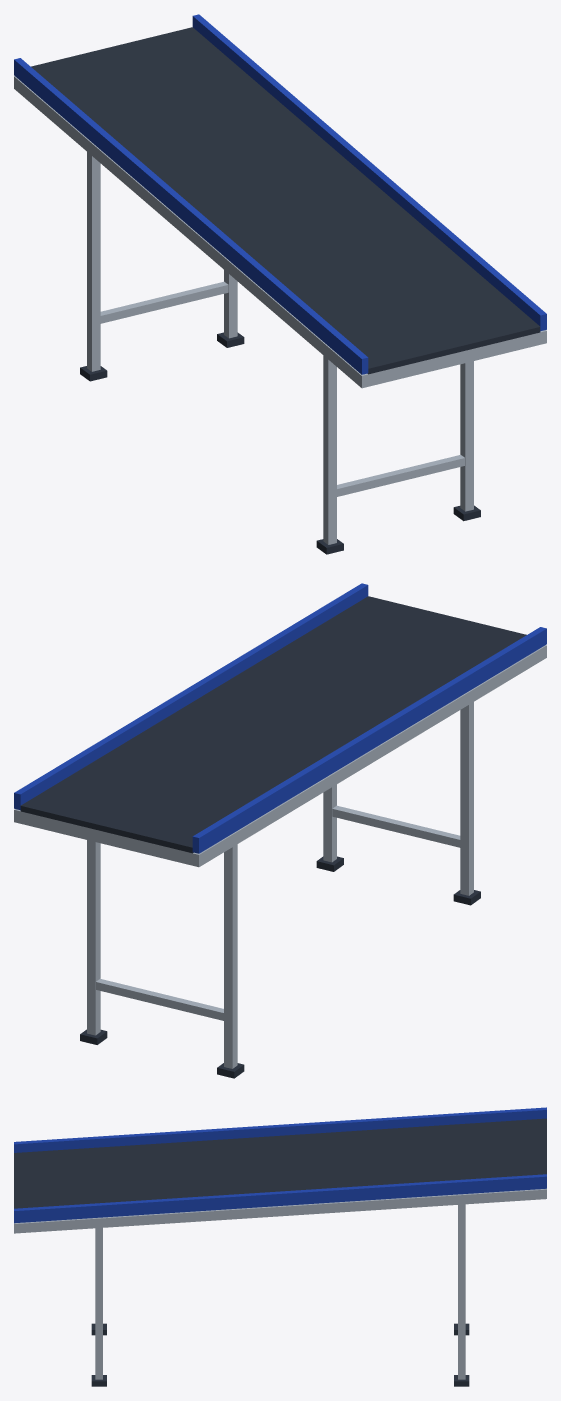
File: SM_MPR_CADFeedRise120.fbx
3 renders of one model, top to bottom at view 1: azimuth 30°, elevation 25°; view 2: azimuth 150°, elevation 25°; view 3: azimuth 270°, elevation 25°, orthographic. The views are drawn at different scales.
Visible parts, largest first — view 1: SM_MPR_CADFeedRise120; view 2: SM_MPR_CADFeedRise120; view 3: SM_MPR_CADFeedRise120.
Boxes of the visible parts, x1=… form: SM_MPR_CADFeedRise120: x1=14, y1=14, x2=546, y2=554; SM_MPR_CADFeedRise120: x1=14, y1=583, x2=546, y2=1078; SM_MPR_CADFeedRise120: x1=14, y1=1107, x2=546, y2=1386.
Size of the model in its own units: 86.04 by 280 by 125.
